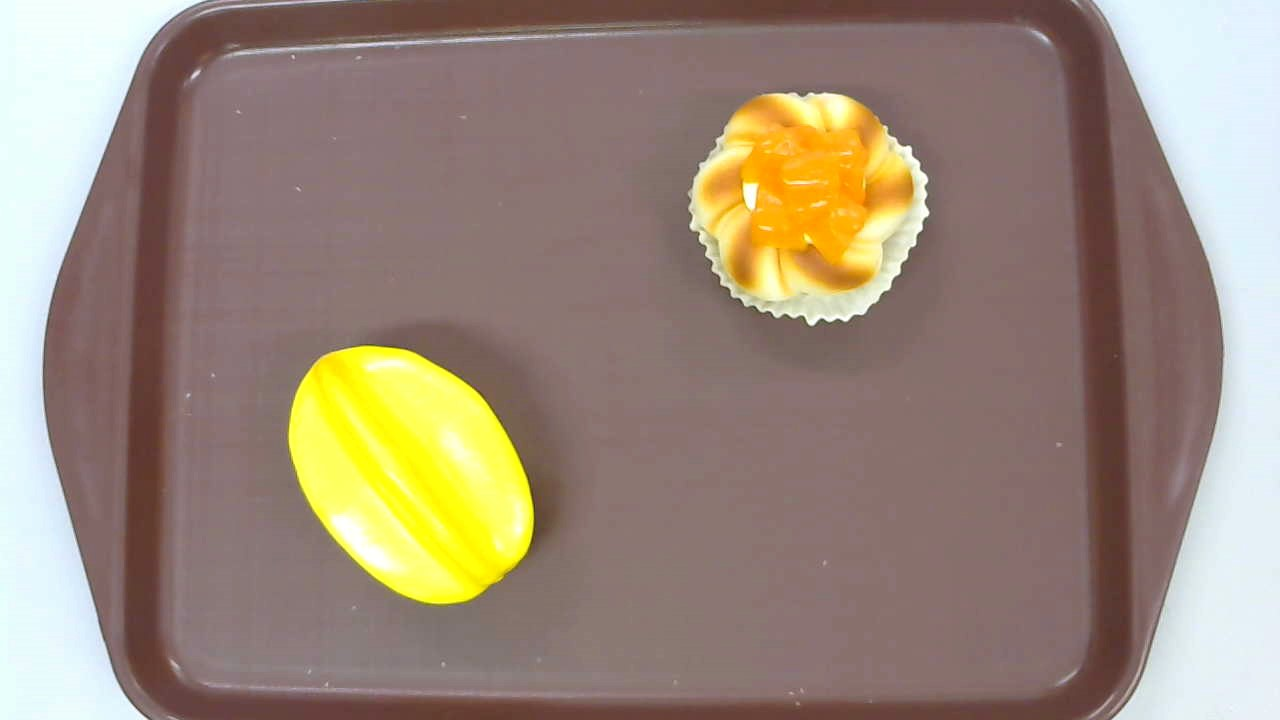mango tart: (686, 92, 930, 328)
star fruit: (287, 344, 535, 604)
